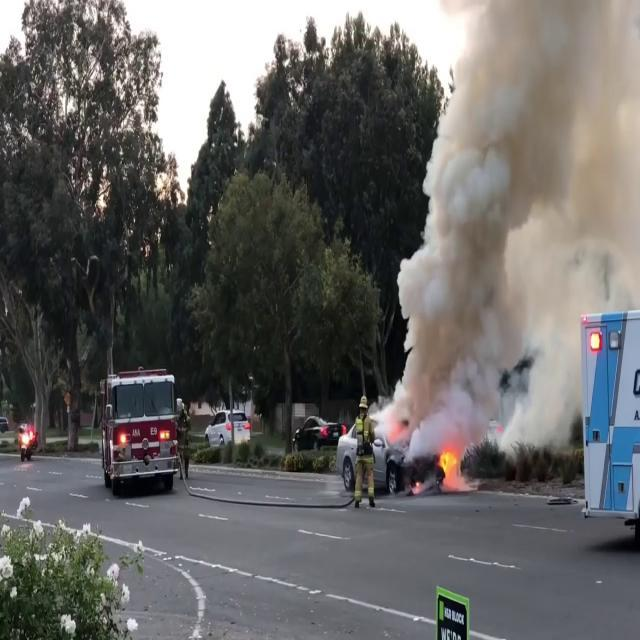Fire: (434, 439, 464, 488), (17, 418, 37, 452)
Smoke: (387, 0, 640, 446)
